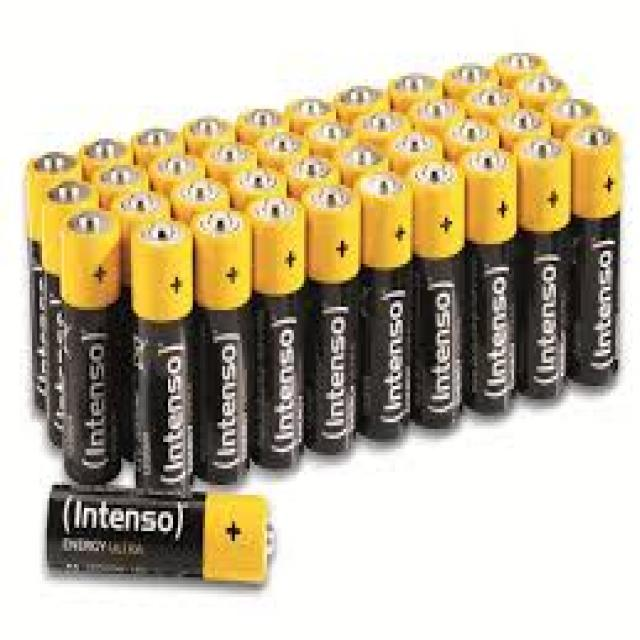non-organic waste: (46, 482, 276, 594), (246, 192, 312, 466), (189, 210, 254, 488), (65, 208, 130, 483), (130, 218, 194, 488), (458, 142, 521, 416), (358, 168, 414, 448), (43, 178, 100, 448), (410, 164, 465, 441), (518, 135, 574, 401), (27, 148, 83, 404), (309, 181, 361, 455), (569, 118, 620, 387), (350, 105, 414, 156), (95, 156, 151, 214), (439, 48, 501, 100), (384, 63, 446, 114), (111, 181, 173, 232), (331, 75, 391, 122), (550, 86, 602, 140), (170, 181, 234, 224), (236, 162, 292, 211), (283, 85, 338, 134), (385, 124, 446, 168), (284, 151, 341, 198), (151, 149, 209, 194), (130, 125, 190, 168), (403, 100, 467, 140), (181, 112, 237, 156), (466, 80, 523, 122), (494, 48, 553, 88), (443, 114, 505, 152), (71, 139, 136, 175), (498, 98, 553, 140), (207, 135, 257, 178), (236, 105, 287, 146), (337, 139, 388, 180), (257, 128, 309, 168), (304, 118, 356, 157), (515, 72, 569, 109)
